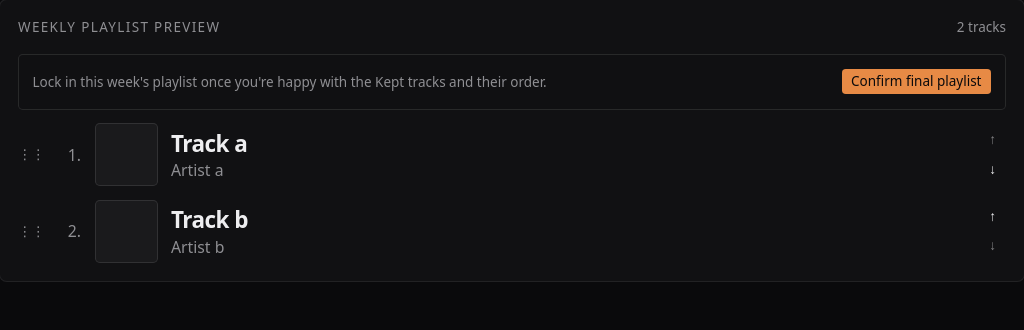
WeeklyPlaylistPreview › a failed confirm keeps the playlist editable and shows an error
The image size is (1024, 330).
Step 1. Click the button "Confirm final playlist" → (916,82), box [841,68,992,96]
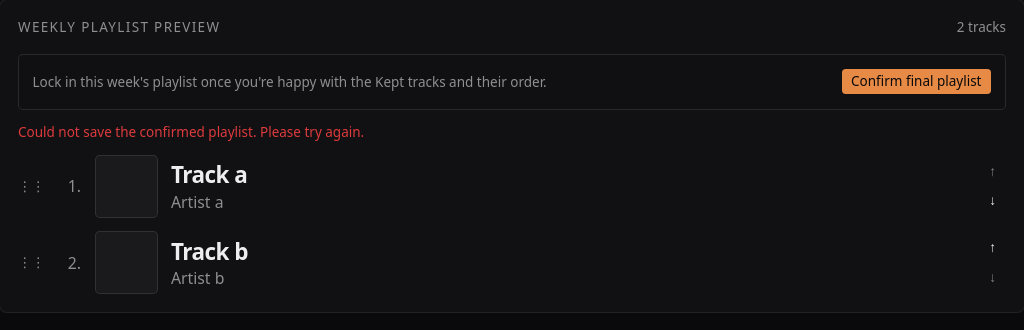
Expected: the button named "Move Track a down" is shown, [979,188,1006,215]
Expected: the text "Could not save the confirmed playlist" is shown, [18,124,364,142]
